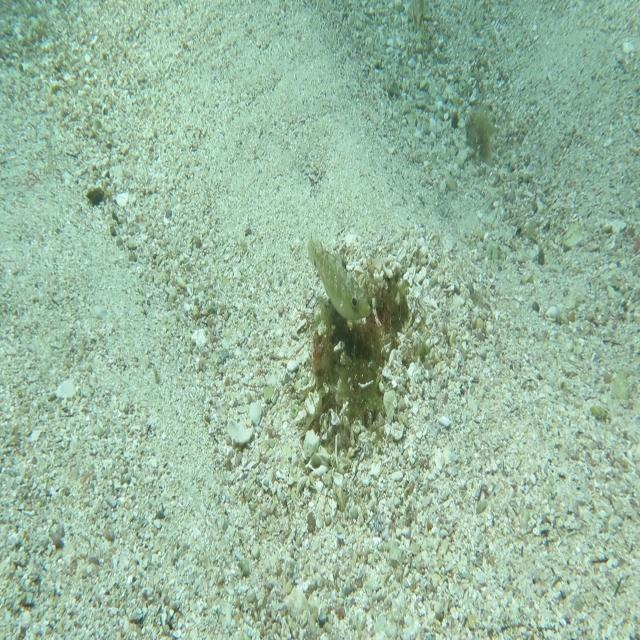FAN: (306, 229, 372, 322)
core_nest: (360, 290, 400, 329)
female: (411, 0, 425, 33)
nest: (291, 252, 421, 464)
vegetation: (464, 101, 495, 171), (85, 184, 106, 208)
